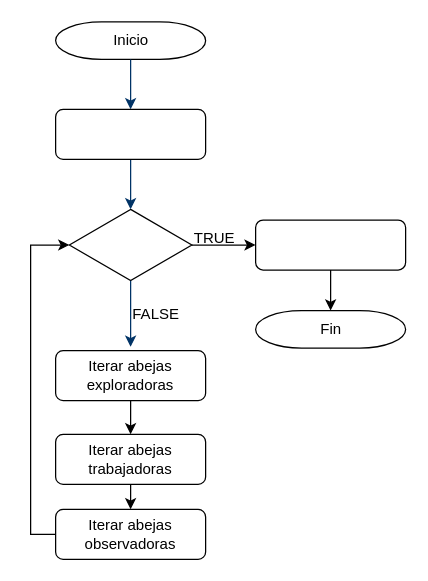
This 428x581 diagram has some shape labels left out. The shapes that lost their labels are listed below. From the top down, each one's centre as x and y in pixels, then its label:
At (130,133): "Inicializar colmena".
At (130,244): "condiciones de término".
At (330,244): "Pintar solución".
